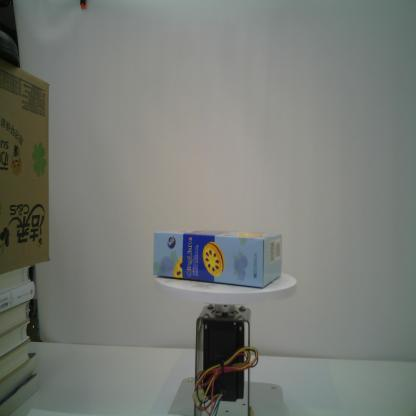Dessert: (152, 226, 284, 290)
